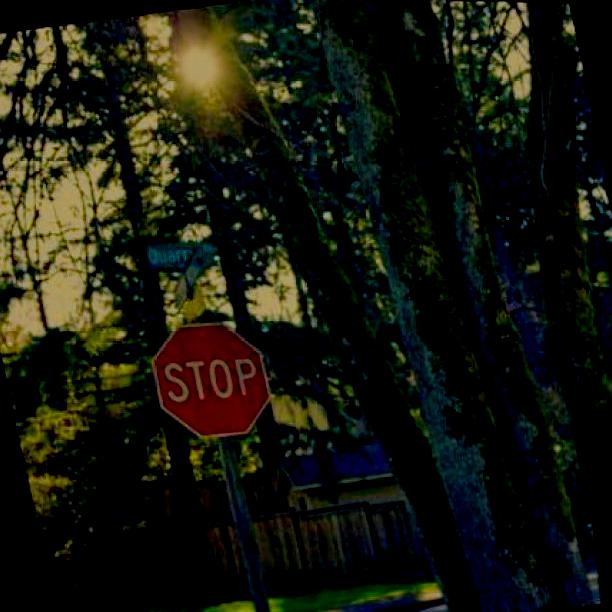stop_sign: (140, 312, 274, 445)
